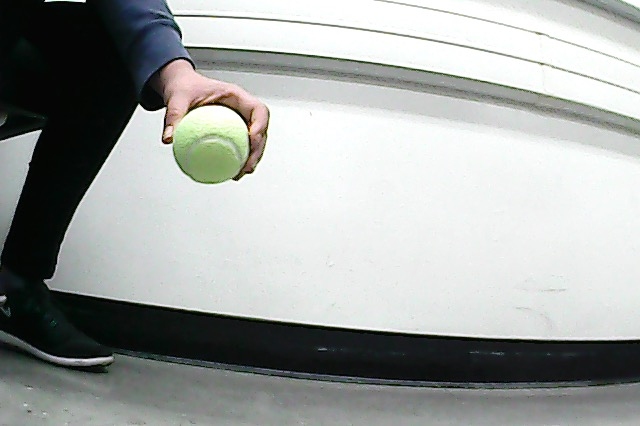ball: (170, 102, 253, 187)
